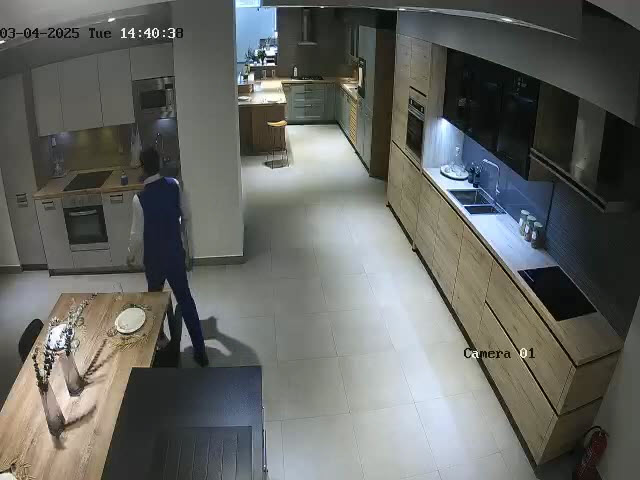employee: (136, 153, 209, 367)
